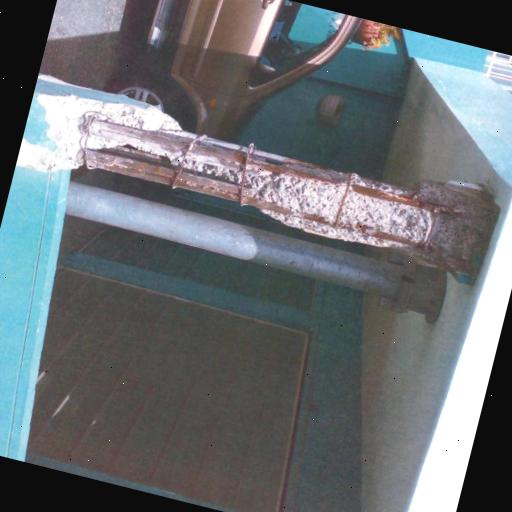spalling: (72, 96, 498, 280)
